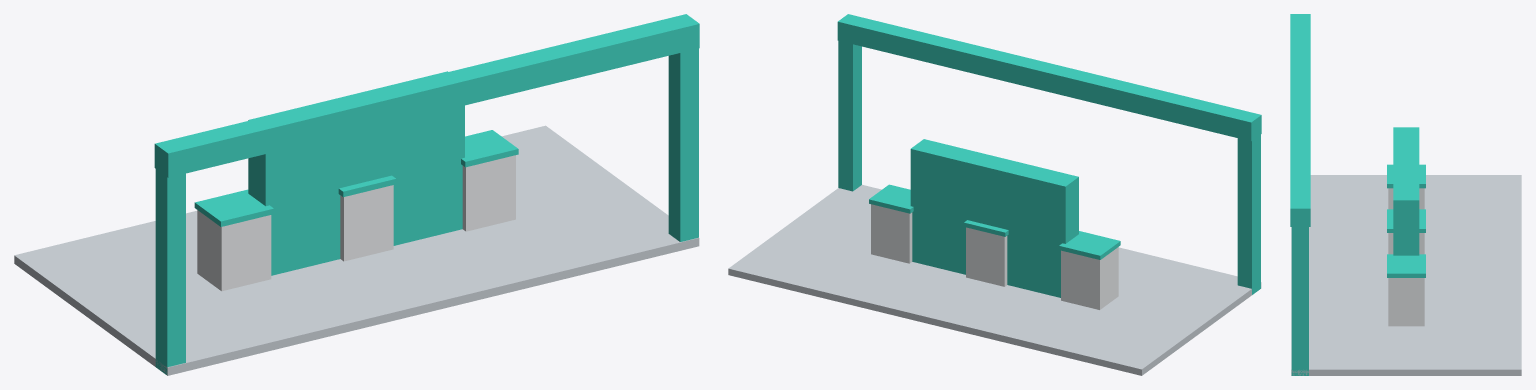
3 views of the same model, side by side, from view 1: azimuth 30°, elevation 25°; view 2: azimuth 150°, elevation 25°; view 3: azimuth 270°, elevation 25° (orthographic). The views are drawn at different scales.
Visible parts, largest first — view 1: Exhibition Booth Concept; view 2: Exhibition Booth Concept; view 3: Exhibition Booth Concept.
Boxes of the visible parts, x1,y1,x2,y2 form: Exhibition Booth Concept: (14,14,699,375); Exhibition Booth Concept: (728,14,1261,375); Exhibition Booth Concept: (1290,14,1521,375).
Size of the model in its own units: 8 by 3.2 by 4.02.
